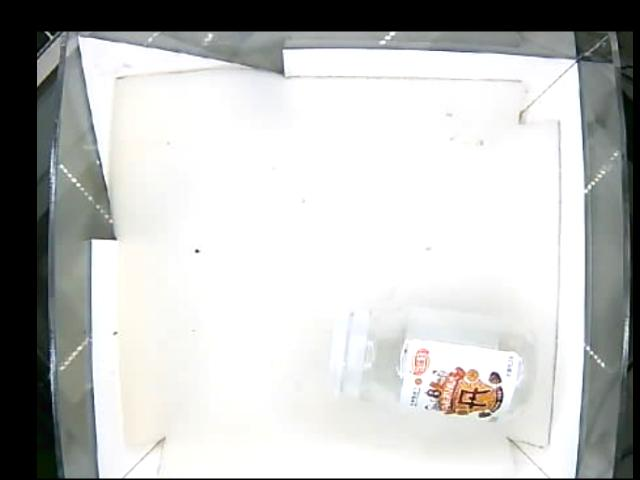Bottle: (326, 305, 538, 425)
